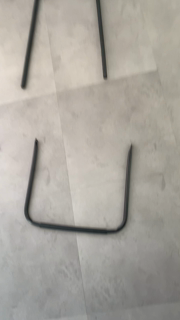C pipe: (23, 134, 136, 239)
